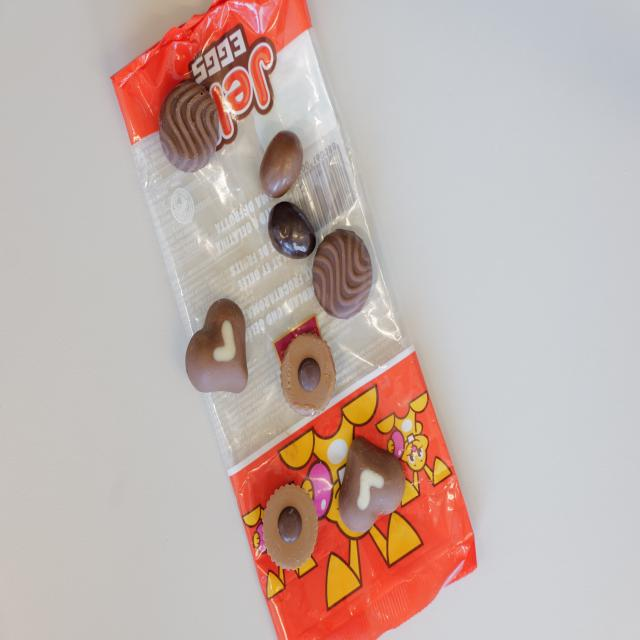Jelly_Black: (266, 201, 316, 259)
Jelly_Milk: (260, 131, 305, 202)
Noblesse: (264, 485, 318, 569), (280, 334, 336, 414)
Noir_authentique: (158, 83, 220, 172), (314, 228, 373, 318)
Passion_au_lait: (339, 438, 406, 532), (185, 299, 250, 394)
